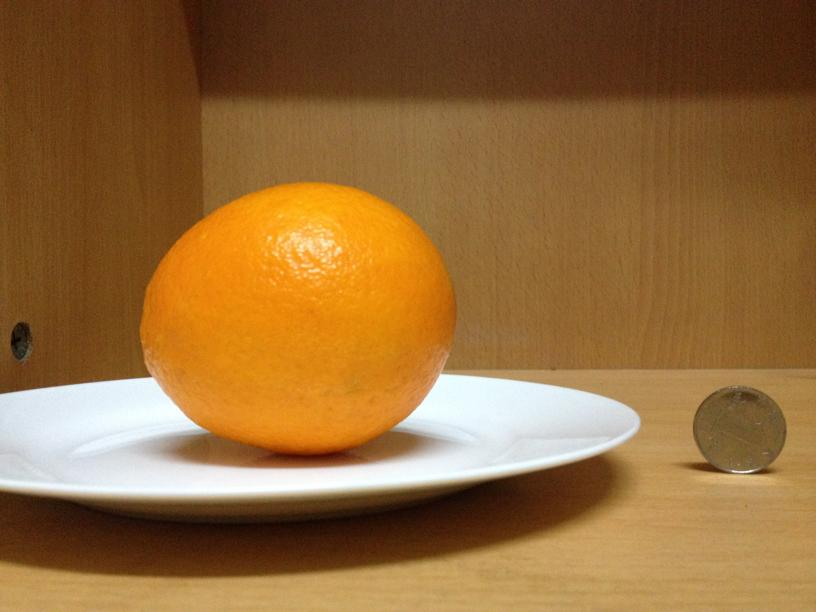coin: (694, 382, 786, 475)
orange: (136, 178, 457, 454)
